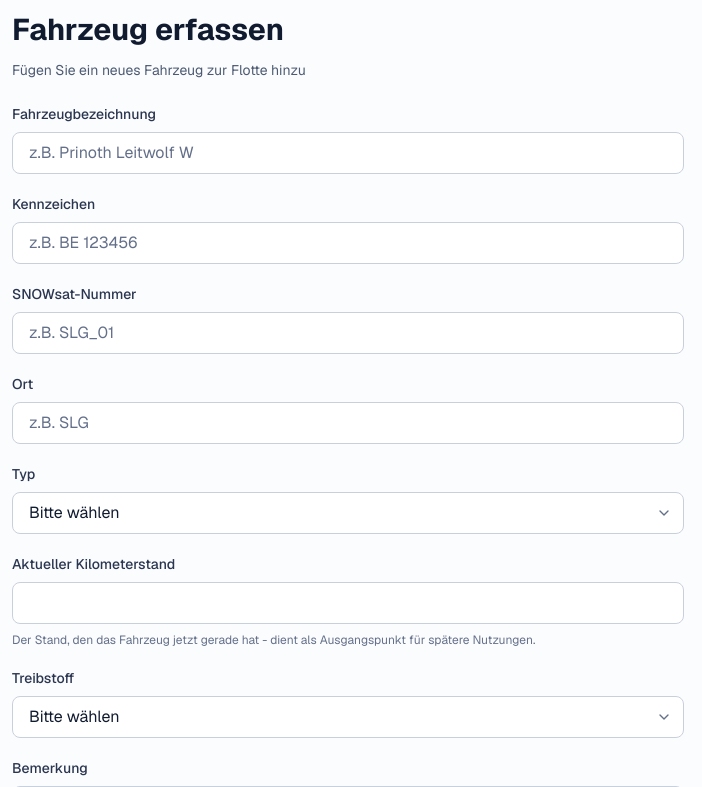
Scenario: Fahrzeug erfassen › Betriebsstunden vs. Kilometerstand › switches back to the kilometer label for a non-groomer type
Select "Pistenfahrzeug" in the dropdown labelled "Typ". click: x=348, y=513
box: [12, 492, 684, 534]
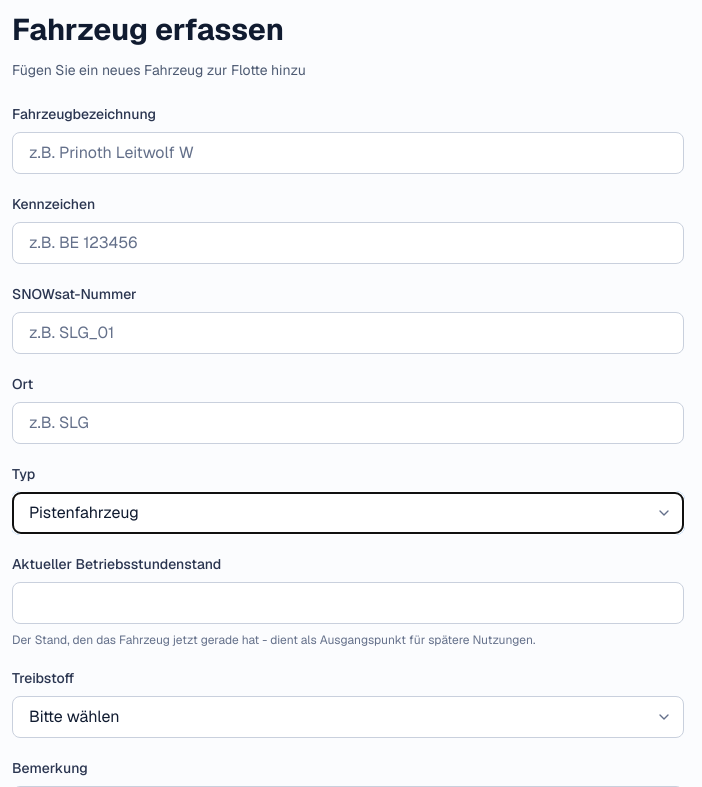
Select "Quad" in the dropdown labelled "Typ". click: x=348, y=513
box: [12, 492, 684, 534]
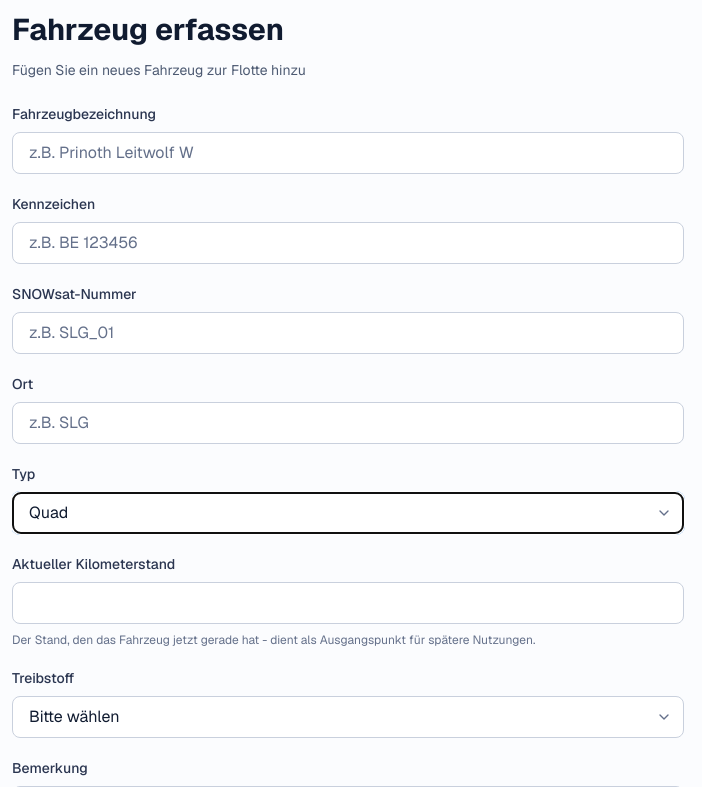
Result: the text "Aktueller Kilometerstand" is shown at [12, 555, 175, 573]
